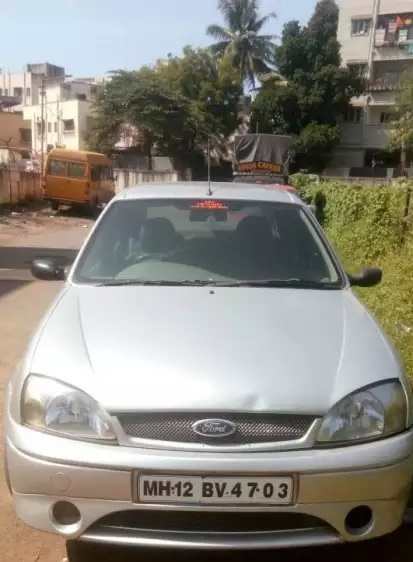licenseplate: (136, 470, 297, 506)
